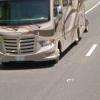Bus: (2, 1, 91, 68)
